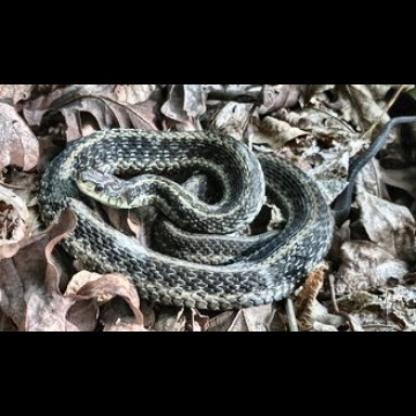Snake: (40, 127, 331, 313)
